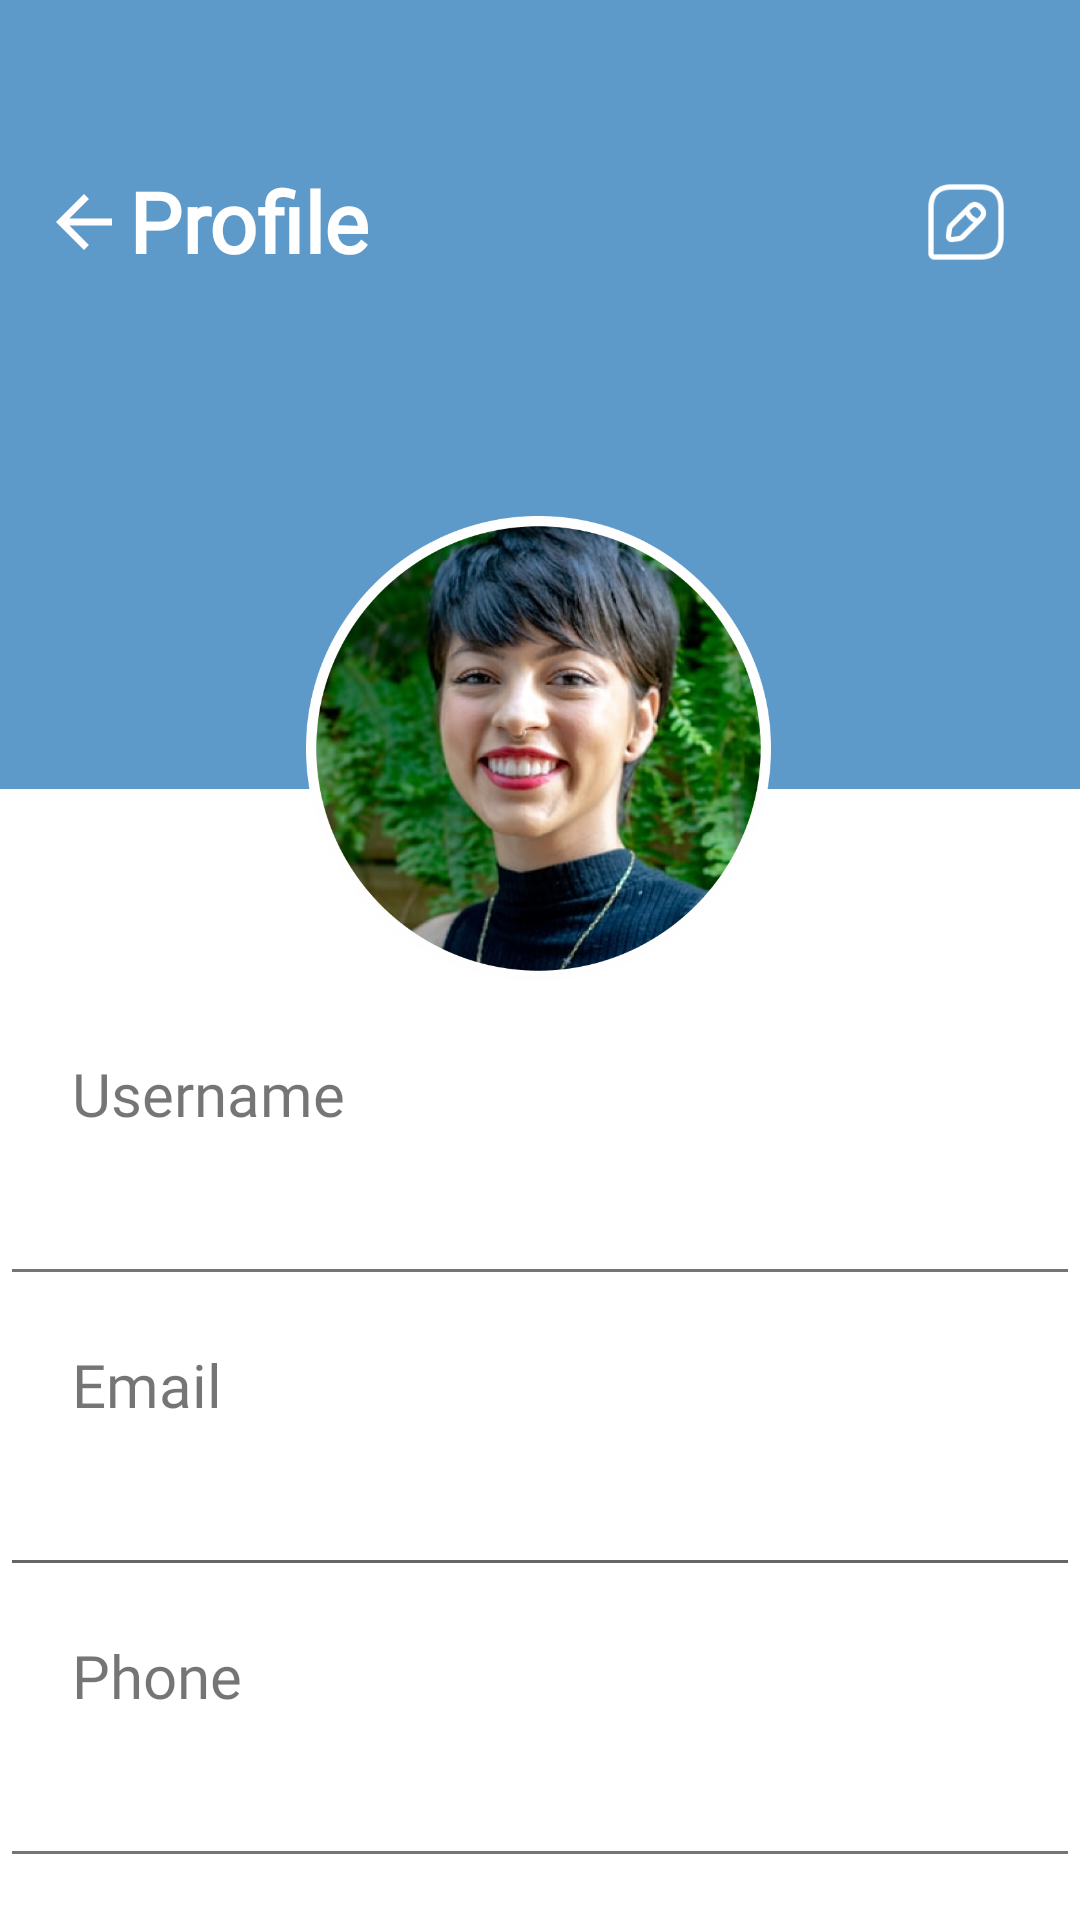

Where to tap for icons on this 1080w x 1920h app screen, as (x=x, y=y):
arrow back: (x=84, y=222)
message edit: (x=966, y=222)
